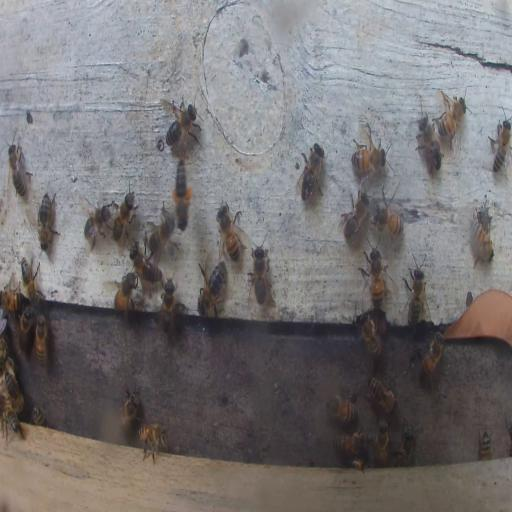bee: (160, 98, 200, 152), (416, 109, 444, 179), (170, 155, 194, 233), (438, 90, 468, 150), (196, 257, 226, 317), (296, 141, 326, 201), (404, 252, 427, 330), (144, 205, 176, 254), (488, 112, 512, 175), (36, 191, 60, 253), (217, 204, 243, 261), (137, 420, 170, 464), (471, 198, 493, 264), (340, 191, 369, 241), (246, 243, 270, 303), (419, 330, 445, 384), (110, 189, 136, 242), (130, 242, 160, 287), (366, 376, 398, 416), (7, 141, 29, 199), (84, 200, 111, 246), (364, 245, 383, 308), (374, 194, 404, 233), (349, 144, 389, 171), (360, 312, 382, 360), (394, 421, 416, 466), (3, 368, 24, 414), (158, 279, 176, 332), (20, 257, 41, 302), (120, 381, 140, 428), (1, 405, 25, 443), (114, 272, 135, 314), (333, 431, 367, 456), (328, 394, 356, 423), (2, 285, 26, 314), (375, 421, 390, 465), (34, 314, 46, 364), (20, 306, 32, 347), (478, 430, 492, 460), (31, 404, 47, 426), (349, 456, 367, 470)
